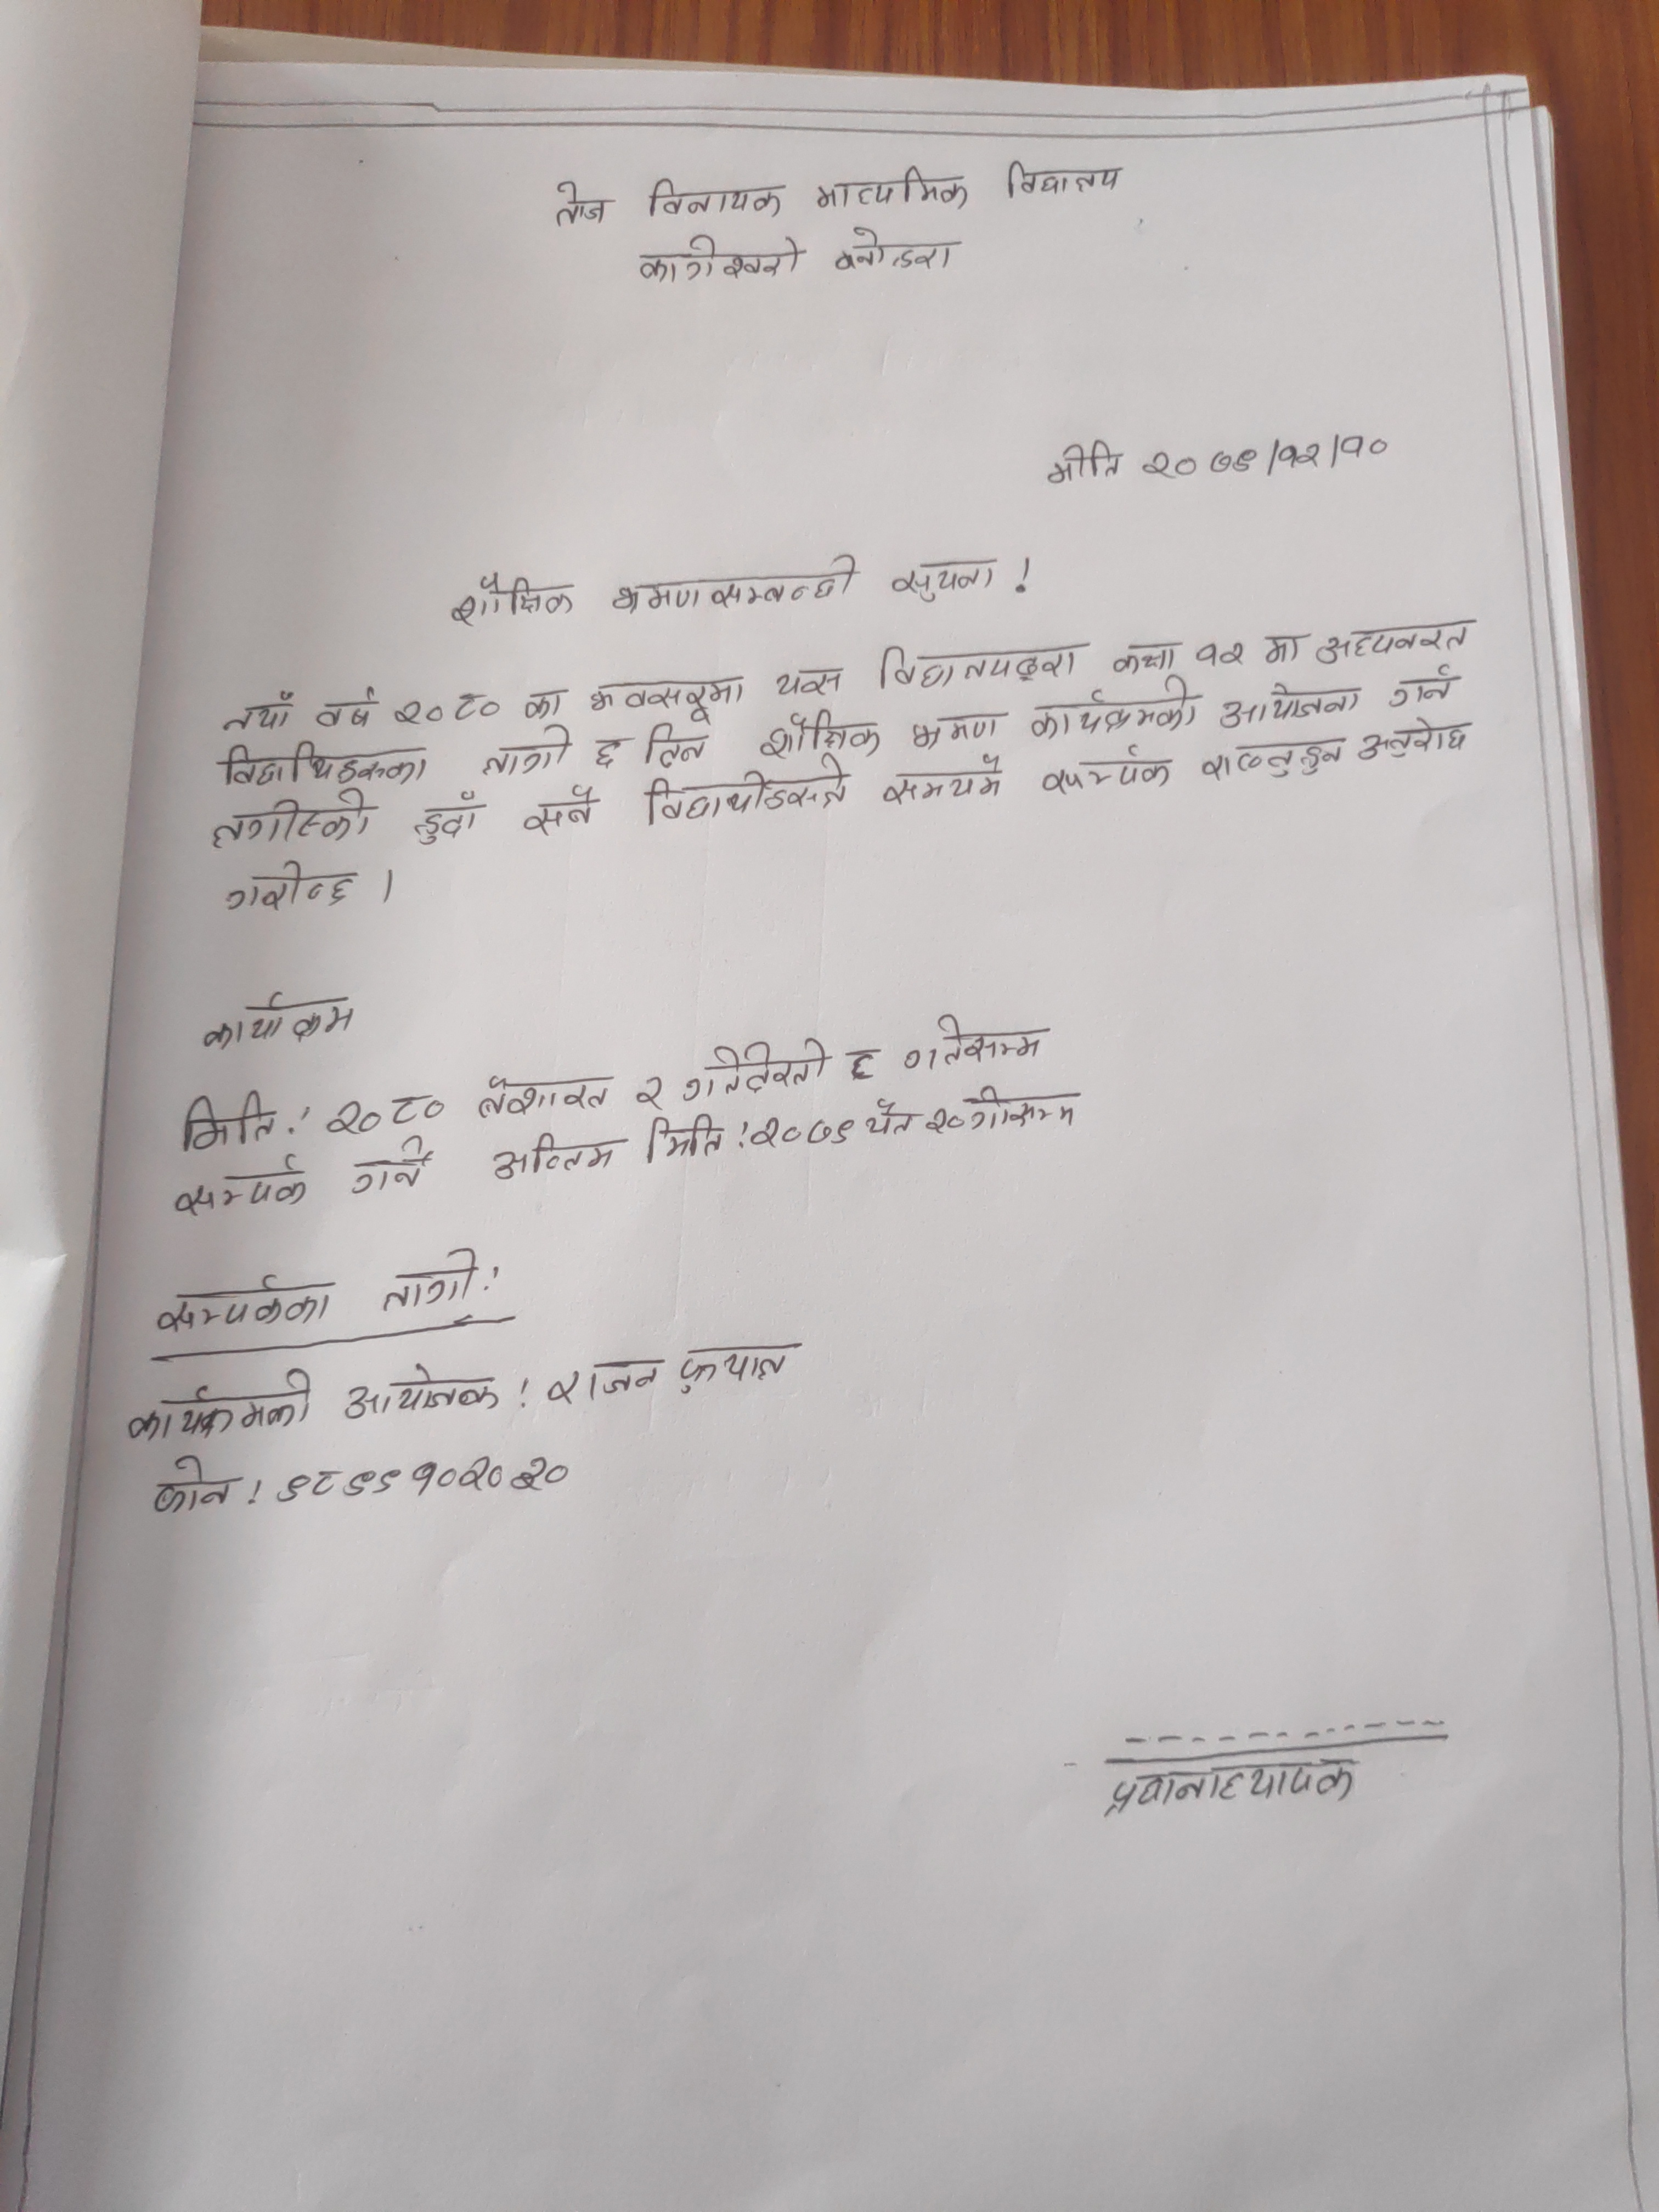text: (272, 1453, 622, 1510), (606, 550, 864, 615), (1100, 1759, 1373, 1818), (125, 1369, 319, 1446), (640, 765, 849, 827), (148, 1273, 336, 1332), (1143, 432, 1394, 475), (204, 791, 376, 852), (1030, 683, 1204, 742), (218, 740, 429, 789), (678, 1036, 840, 1099), (202, 989, 357, 1054), (345, 1364, 502, 1425), (875, 639, 1084, 685), (664, 1334, 803, 1395), (903, 1012, 1044, 1071), (1195, 735, 1354, 787), (638, 232, 802, 280), (471, 1068, 613, 1123), (221, 859, 359, 916), (491, 1130, 627, 1188), (810, 164, 972, 211), (376, 1240, 483, 1312), (1216, 681, 1366, 732), (1039, 744, 1178, 798), (587, 679, 756, 723), (540, 1350, 662, 1409), (756, 705, 885, 761), (174, 1087, 282, 1153), (1316, 617, 1473, 662), (171, 1165, 308, 1216), (451, 571, 579, 625), (878, 756, 1014, 806), (1354, 714, 1481, 766), (833, 225, 958, 277), (647, 176, 784, 221), (324, 1090, 455, 1137), (965, 1082, 1086, 1132), (889, 554, 999, 608), (471, 725, 570, 777), (150, 1456, 230, 1519), (748, 1109, 856, 1155), (645, 1109, 725, 1170), (999, 157, 1124, 195), (901, 707, 1007, 749), (350, 1137, 429, 1193), (410, 789, 484, 845), (521, 782, 596, 838), (389, 691, 504, 726), (1046, 439, 1127, 486), (638, 721, 713, 770), (221, 690, 298, 737), (547, 178, 613, 232), (1387, 664, 1462, 707), (770, 662, 847, 700), (314, 686, 380, 730), (1253, 625, 1307, 674), (864, 1092, 918, 1141), (1114, 641, 1183, 678), (519, 686, 575, 721), (1194, 639, 1249, 674), (840, 1045, 882, 1089), (633, 1068, 673, 1113), (589, 730, 629, 772), (924, 1104, 964, 1144)
